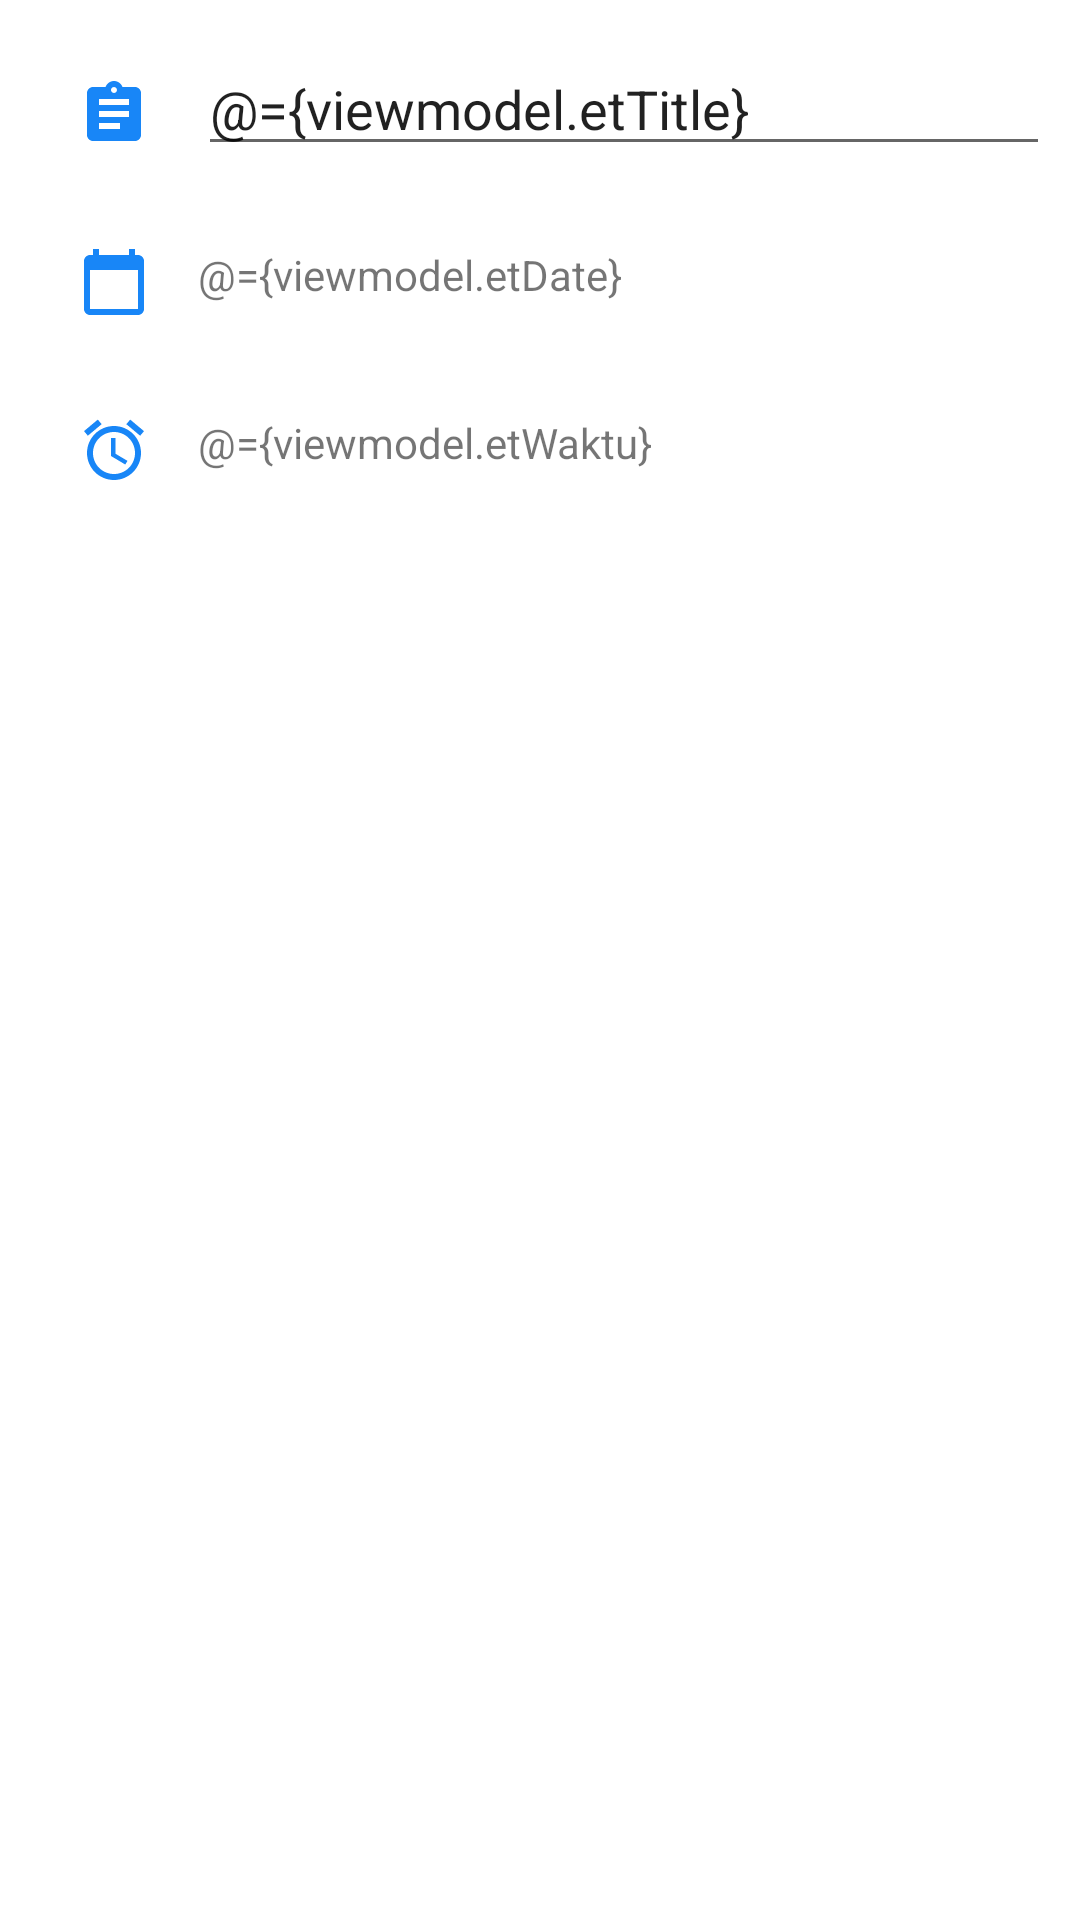

Named icons in this screenshot (1080 × 1920) and their centers, [x,y]:
access alarm: [114,449]
assignment: [114,111]
calendar today: [114,282]
